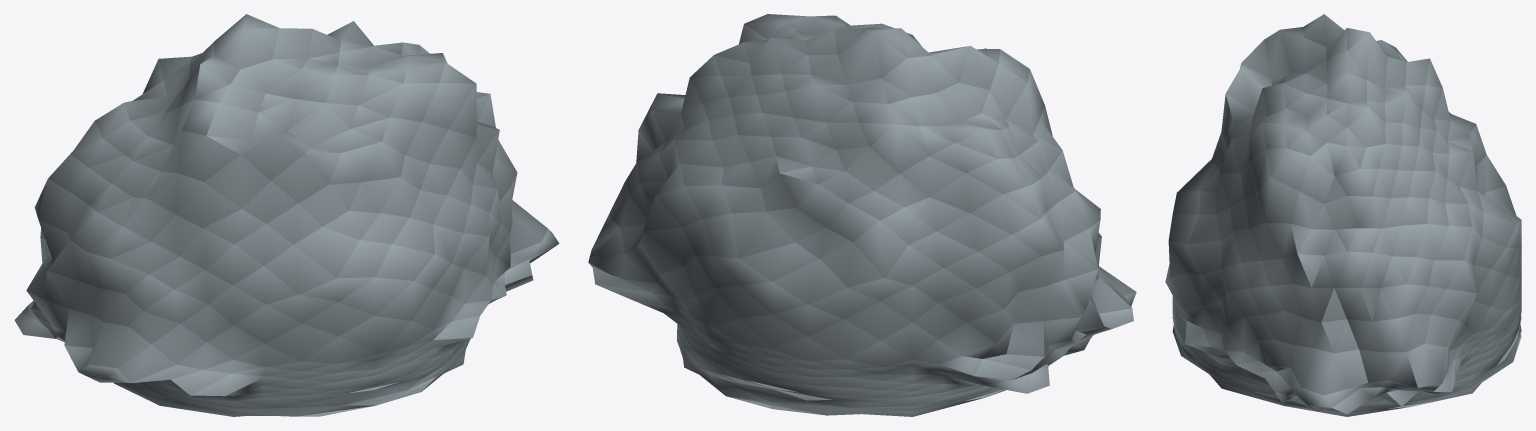
Rendered from rock_outcrop_a.glb.
The picture shows the model from 3 angles, left to right: view 1: azimuth 30°, elevation 25°; view 2: azimuth 150°, elevation 25°; view 3: azimuth 270°, elevation 25°; orthographic projection. The views are drawn at different scales.
Visible parts, largest first — view 1: rock_outcrop_a; view 2: rock_outcrop_a; view 3: rock_outcrop_a.
Part boxes in pixels (x1,y1,x2,y2): rock_outcrop_a: (14,14,559,416); rock_outcrop_a: (588,14,1136,416); rock_outcrop_a: (1165,14,1521,416).
Bounding box in the file's own units: 3.17 × 2 × 2.14.
Materials: 1 (1 with a texture image).
